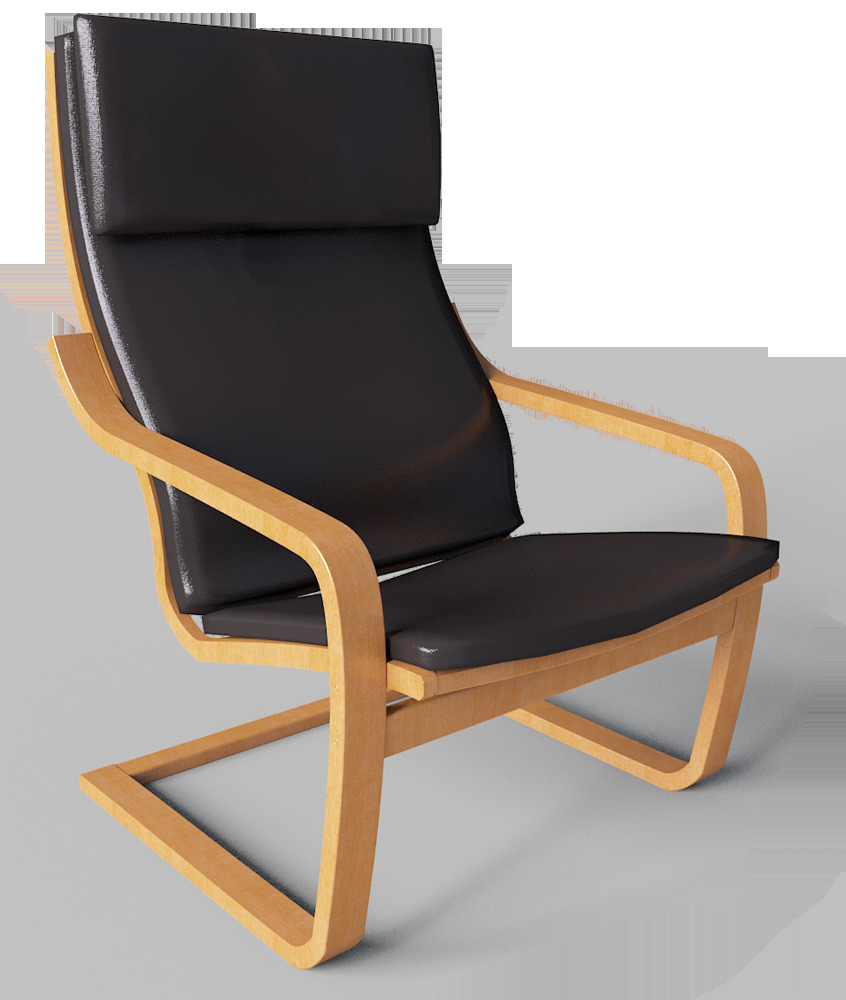chairs: (27, 18, 785, 975)
